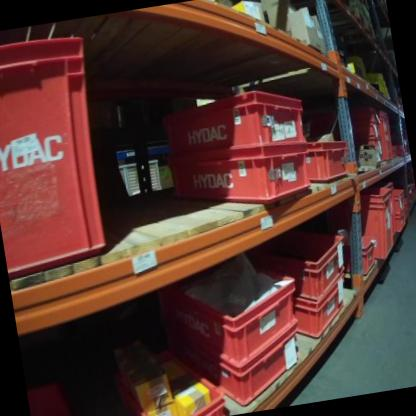pallet: (256, 0, 357, 39), (315, 2, 380, 58)
small_load_carrier: (0, 31, 117, 275), (158, 261, 307, 379), (164, 314, 306, 414), (156, 87, 314, 175), (172, 144, 315, 220), (242, 220, 352, 310), (104, 339, 228, 416), (329, 182, 400, 268), (286, 286, 355, 343), (306, 134, 356, 188), (338, 227, 382, 276), (28, 379, 75, 416), (334, 102, 381, 131), (376, 109, 399, 162), (355, 142, 388, 167), (351, 124, 384, 144), (390, 190, 408, 217), (394, 214, 411, 235)
